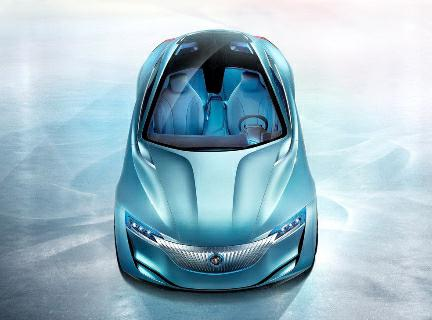别克-Riviera: (110, 28, 323, 300)
